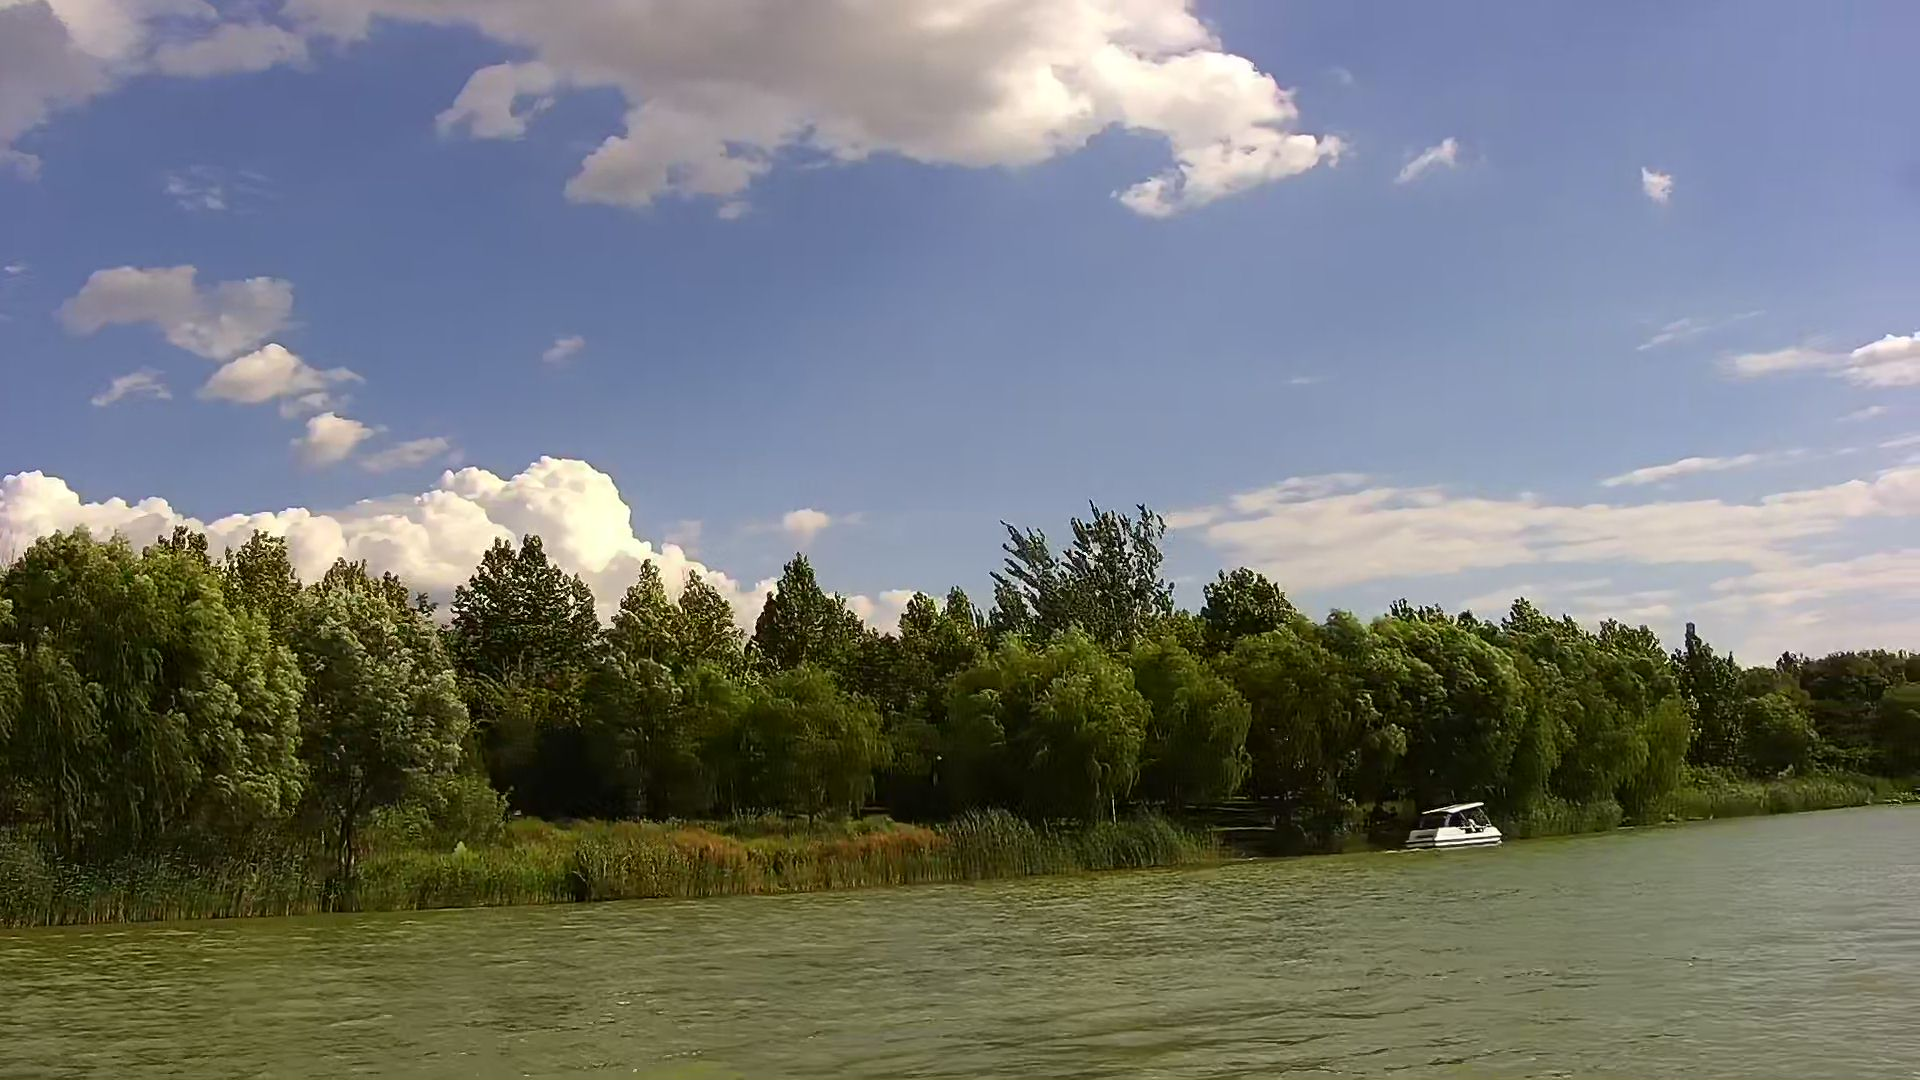boat: (1402, 796, 1502, 851)
